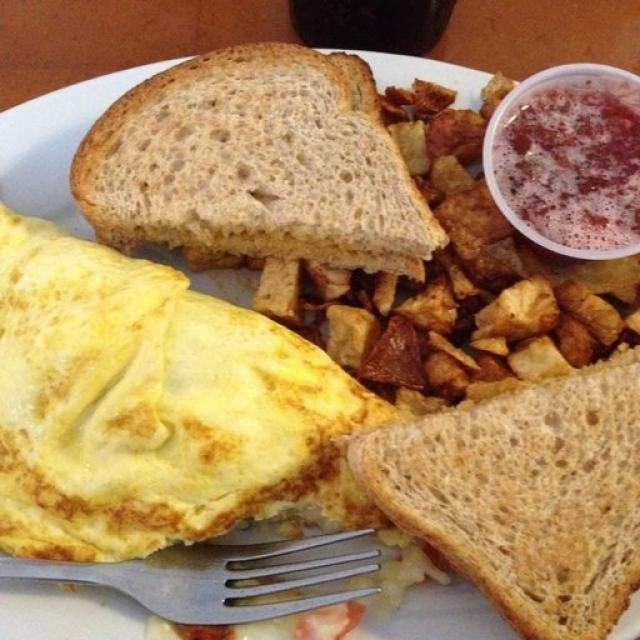telur_ayam_dadar: (1, 198, 402, 551)
